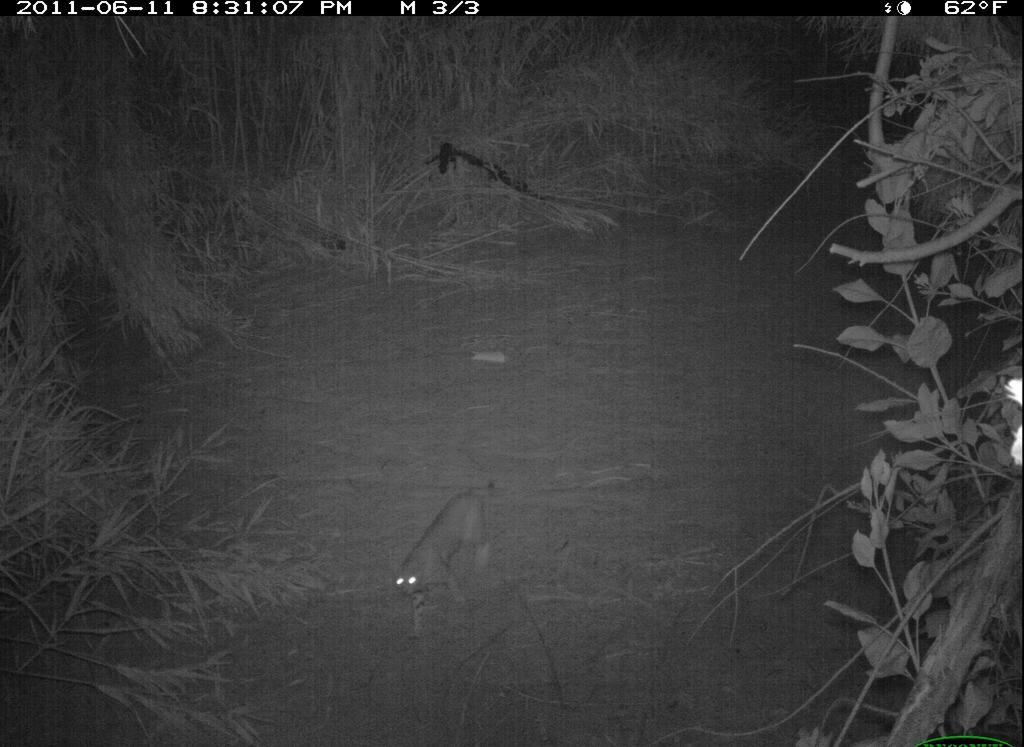bobcat: (393, 472, 510, 648)
